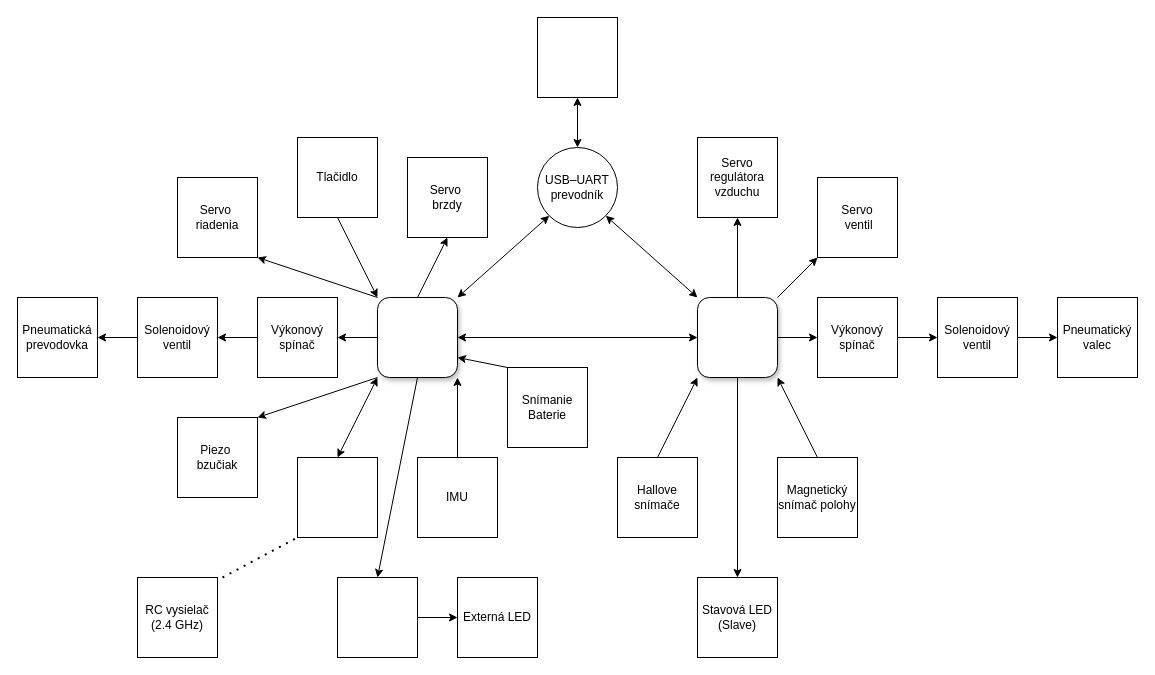
Image size: 1155x675. Some labels were removed from this diagram. Here are the shapes that lost their labels. From the top down, the centre of each, then its label:
At pixel 577 57: "USB".
At pixel 418 338: "ESP32 MASTER".
At pixel 738 338: "ESP32 SLAVE".
At pixel 337 497: "ELRS prijímač".
At pixel 377 617: "Stavová LED (Master)".
